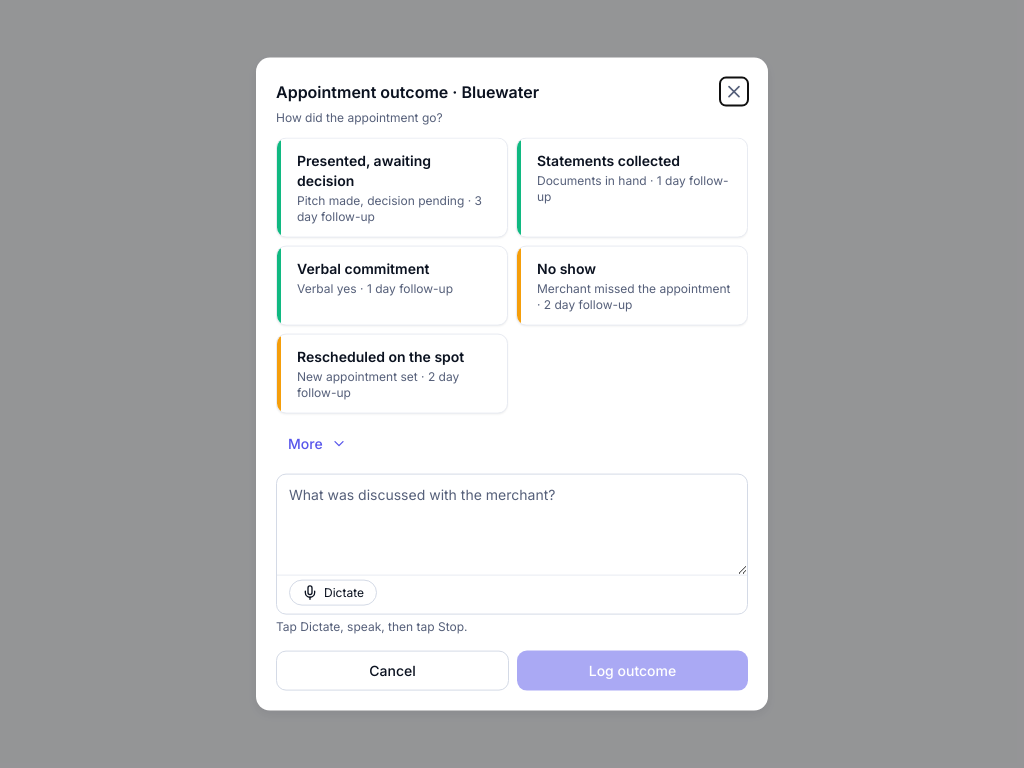
AppointmentOutcomeSheet › Log outcome is disabled until a tile is selected
The width and height of the screenshot is (1024, 768).
expect the button "Log outcome" is disabled: met, box 517,650 -> 748,690
Click the text "No show". click: point(566, 268)
box: 537,260 -> 596,277
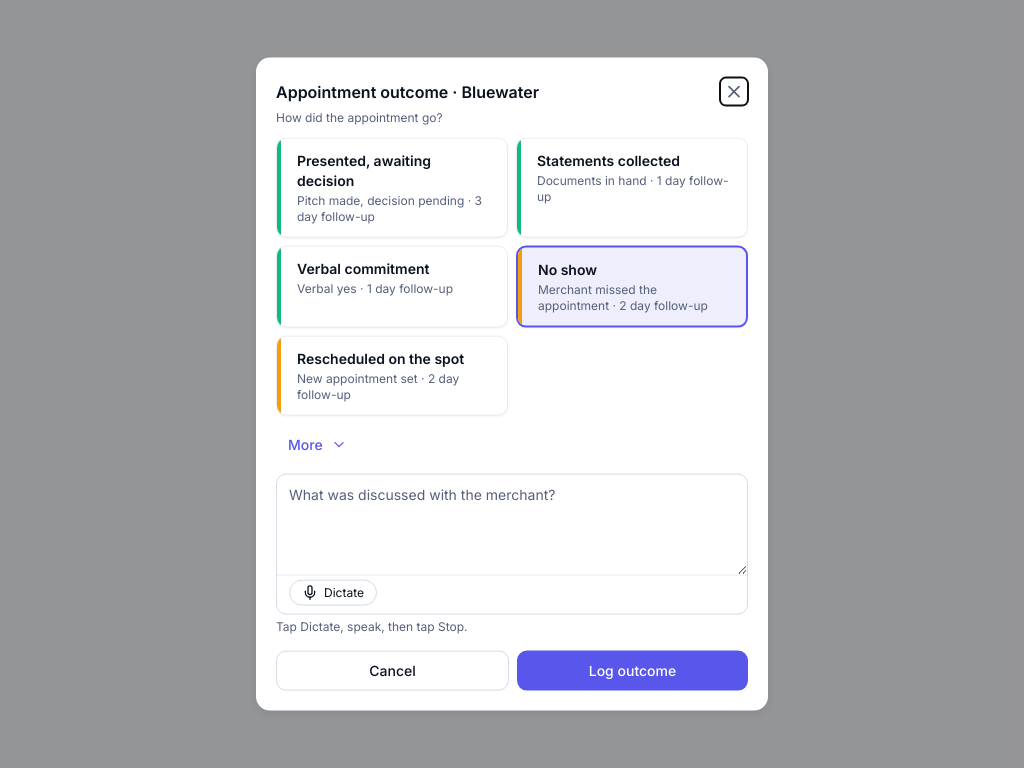
expect the button "Log outcome" is enabled: met, box 517,650 -> 748,690
